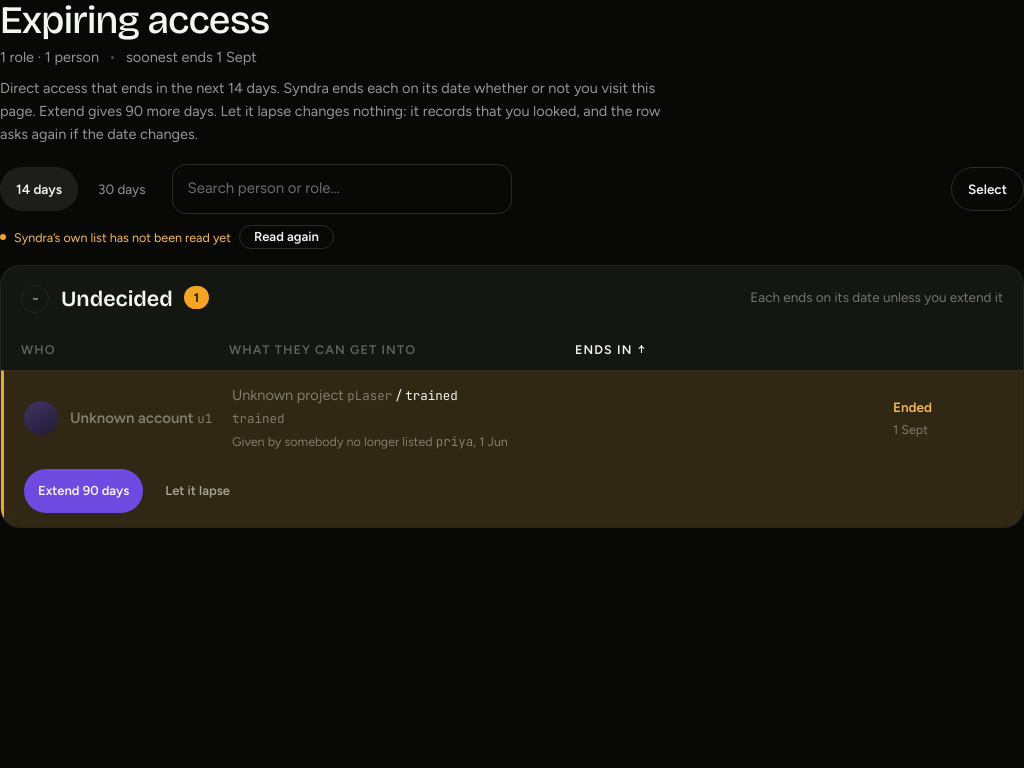
it: Expiring access — acknowledgement (C4) › says acknowledging does not keep the access
Click the button "Let it lapse": (198, 491) x1=151 y1=469 x2=244 y2=513
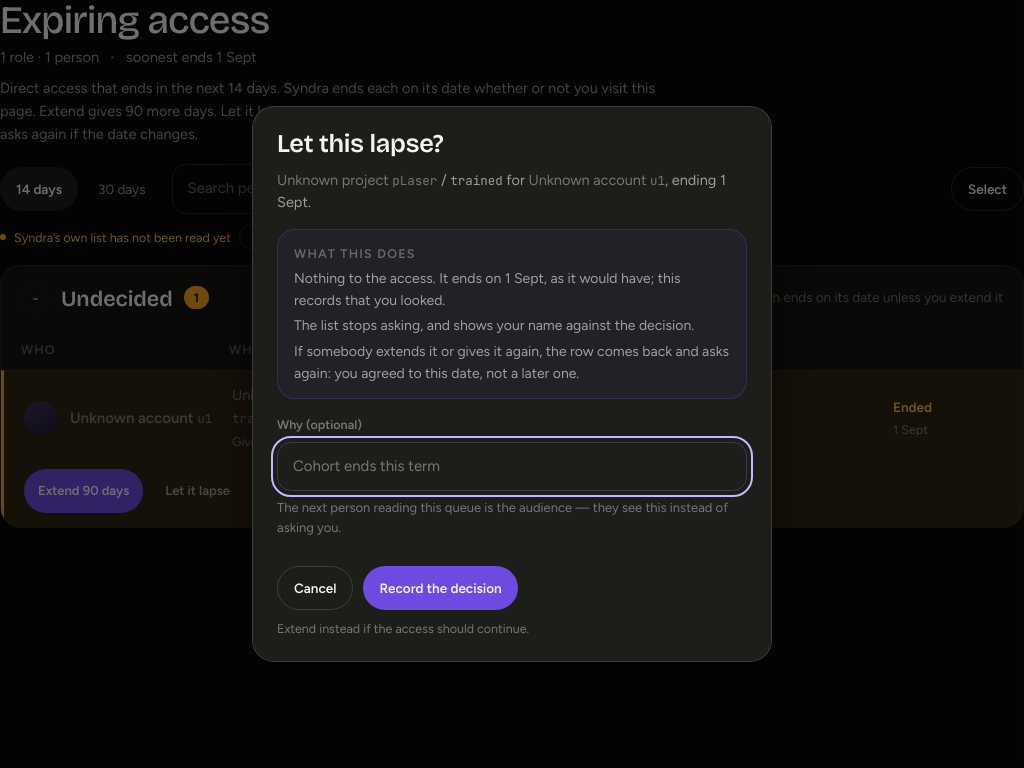
Check: the text "records that you looked" is shown, box x1=0 y1=79 x2=660 y2=143
Check: the text "as it would have" is shown, box x1=294 y1=270 x2=681 y2=308
